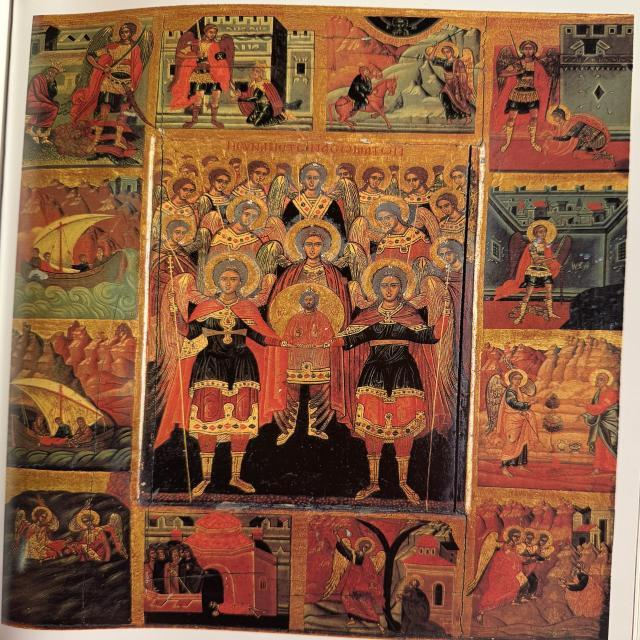angel: (153, 257, 275, 481), (348, 253, 458, 501), (70, 22, 160, 152), (483, 31, 575, 157), (493, 217, 583, 317), (310, 524, 391, 634), (165, 21, 237, 133), (259, 220, 377, 285), (477, 366, 553, 464), (262, 159, 369, 217), (193, 200, 293, 254), (349, 198, 443, 252), (421, 42, 482, 125), (471, 523, 521, 605), (8, 506, 70, 566), (69, 506, 129, 566), (535, 523, 557, 601), (516, 525, 537, 593)
wing: (150, 272, 198, 415), (414, 276, 459, 410), (463, 525, 505, 603), (321, 537, 353, 603), (538, 48, 576, 101), (77, 23, 117, 69), (486, 372, 510, 434), (255, 238, 293, 274), (330, 178, 365, 216), (264, 175, 296, 215), (102, 512, 129, 558), (494, 45, 516, 97), (460, 47, 481, 99), (330, 243, 365, 273), (414, 207, 444, 241), (503, 232, 527, 273), (172, 29, 196, 69), (139, 27, 159, 73), (345, 219, 381, 244), (199, 210, 227, 241), (219, 36, 239, 79), (256, 217, 290, 242), (551, 234, 576, 266), (11, 508, 27, 548), (368, 551, 390, 575), (519, 380, 543, 399), (538, 545, 562, 561), (510, 543, 531, 557), (49, 514, 61, 531), (529, 545, 540, 557), (71, 520, 82, 532)
